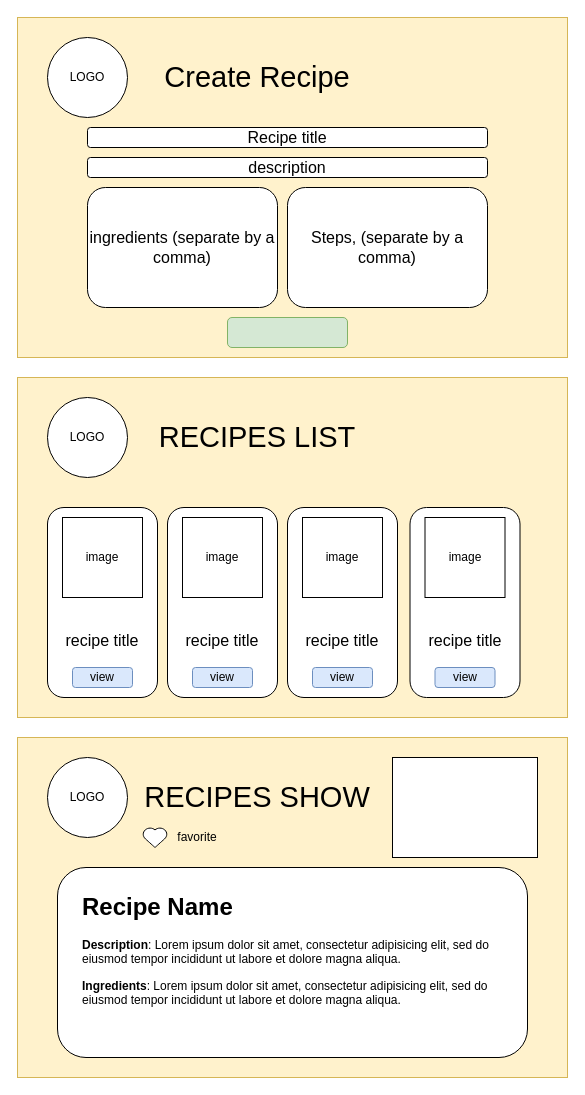
Some shapes in this 585 by 1095 pixel diagram are drawn without their labels. The shapes that lost their labels are listed below. From the top down, each one's centre as x and y in pixels, then its label:
the point at 287,332: submit button
the point at 465,807: recipe image
